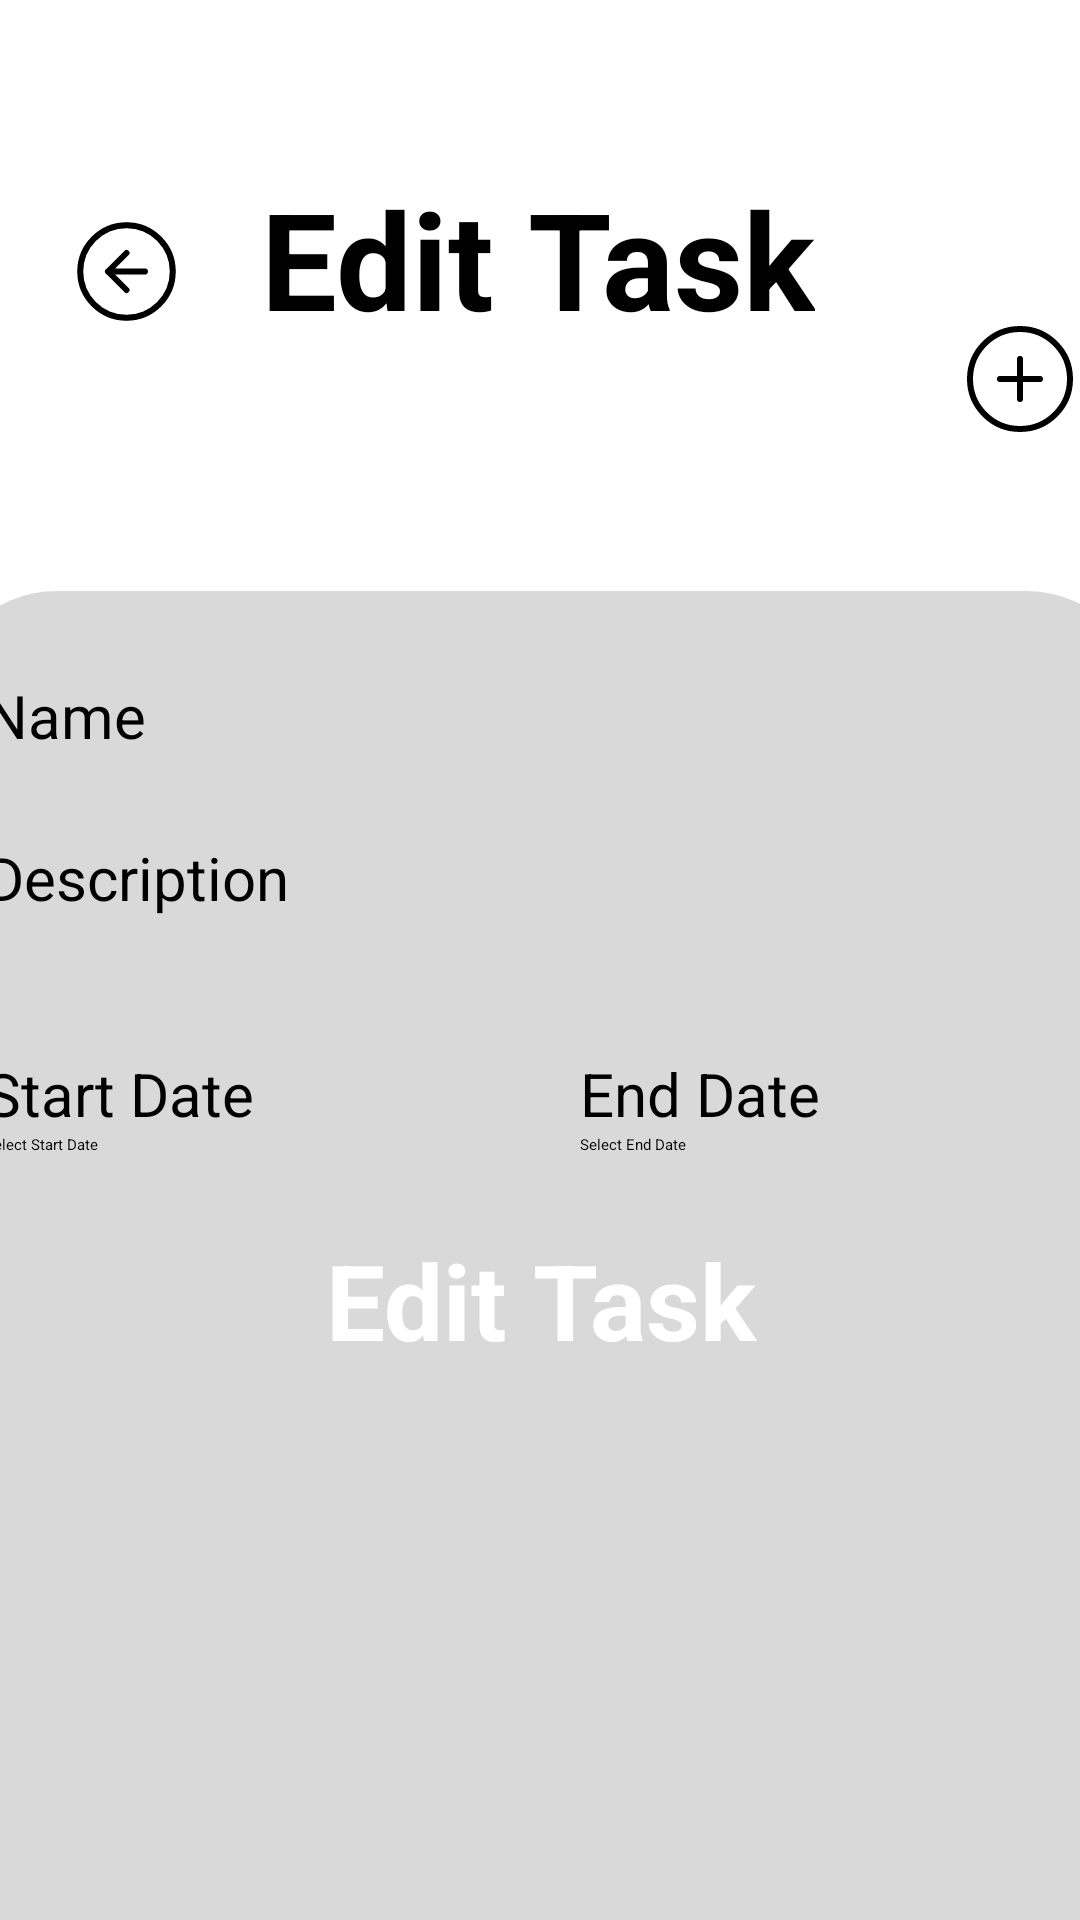

Icon bounding boxes for this 1080 × 1920 phone screenshot, format (x1, y1, x2, y2):
backbutton: (77, 222, 176, 321)
